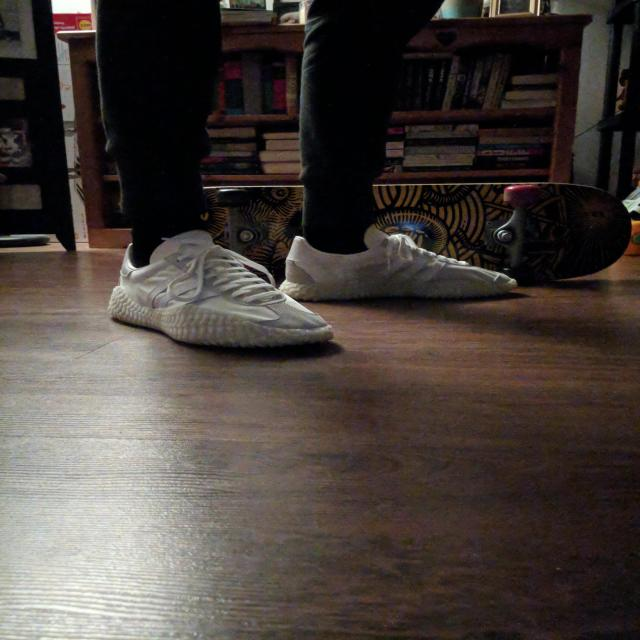shoe: (106, 231, 338, 356), (287, 225, 516, 304)
